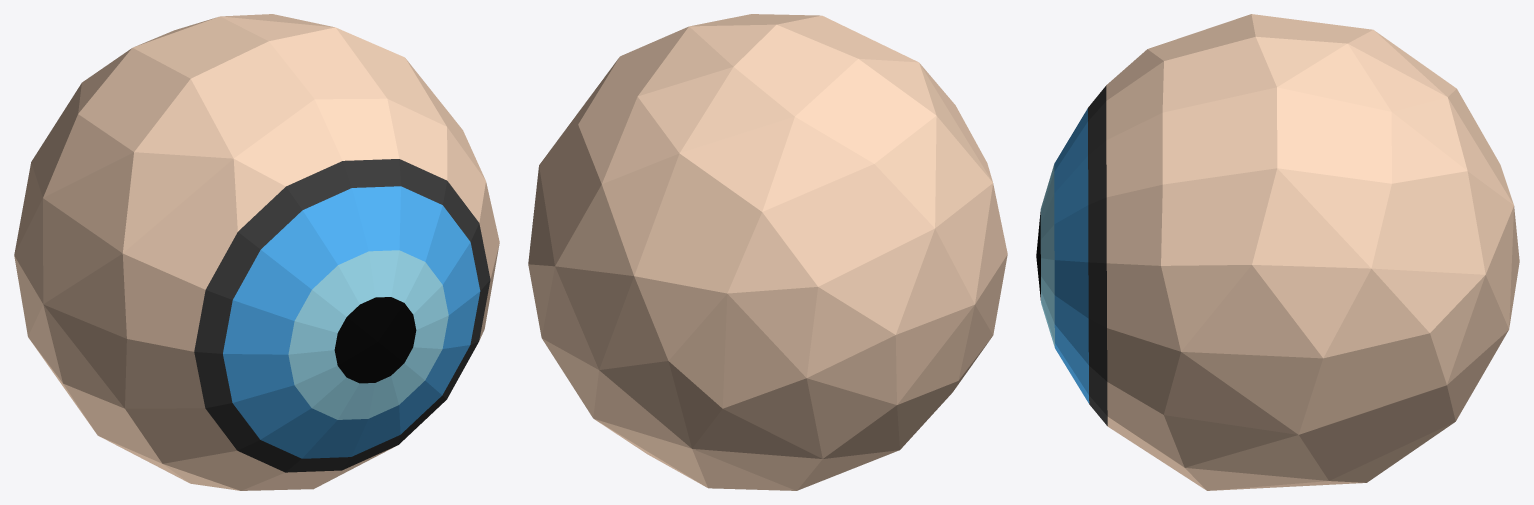
Rendered from Ingredient_eye_1.fbx.
3 renders of one model, left to right at view 1: azimuth 30°, elevation 25°; view 2: azimuth 150°, elevation 25°; view 3: azimuth 270°, elevation 25°, orthographic.
Visible parts, largest first — view 1: Jar_Eyes_Blue.002; view 2: Jar_Eyes_Blue.002; view 3: Jar_Eyes_Blue.002.
Part boxes in pixels (x1,y1,x2,y2): Jar_Eyes_Blue.002: [14, 14, 499, 490]; Jar_Eyes_Blue.002: [528, 14, 1007, 490]; Jar_Eyes_Blue.002: [1036, 14, 1519, 490].
Size of the model in its own units: 16.11 by 16.06 by 16.05.
